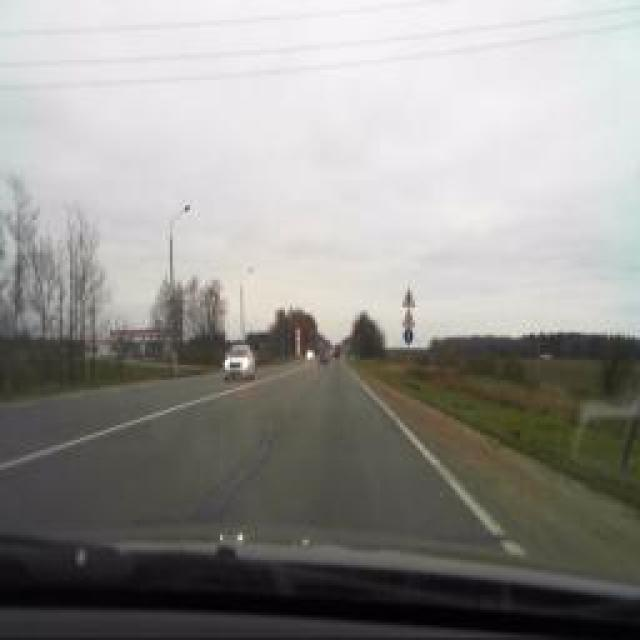sign: (401, 326, 414, 344)
